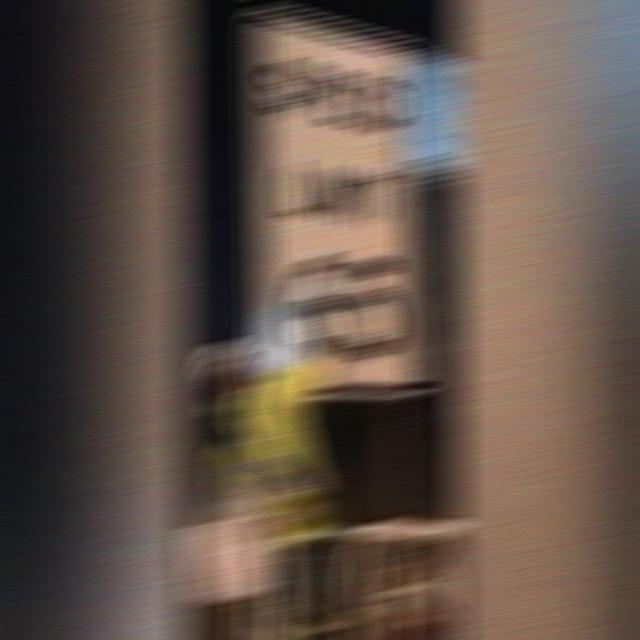speedLimit65: (248, 14, 433, 408)
